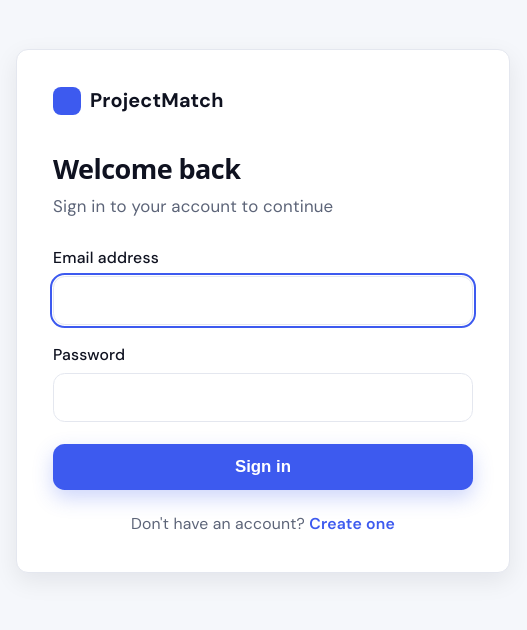
Test: LoginPage — user interactions › displays error message when login fails
Type "wrong@example.com" into the field labelled "Email address" at (263, 301), box [53,276,473,325]
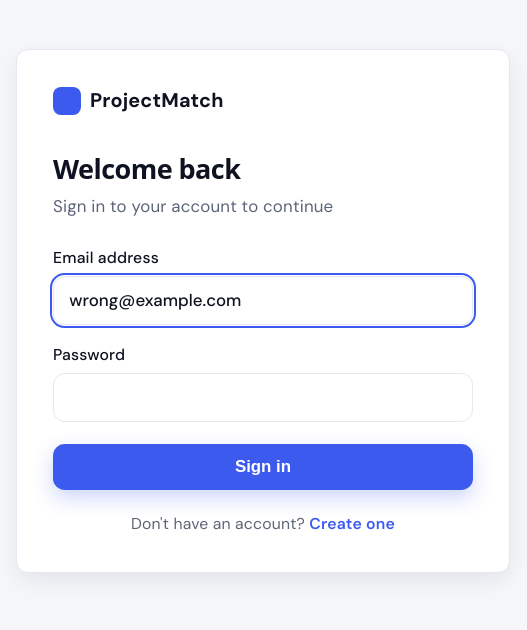
Type "wrongpass" into the password field labelled "Password" at (263, 397), box [53,373,473,422]
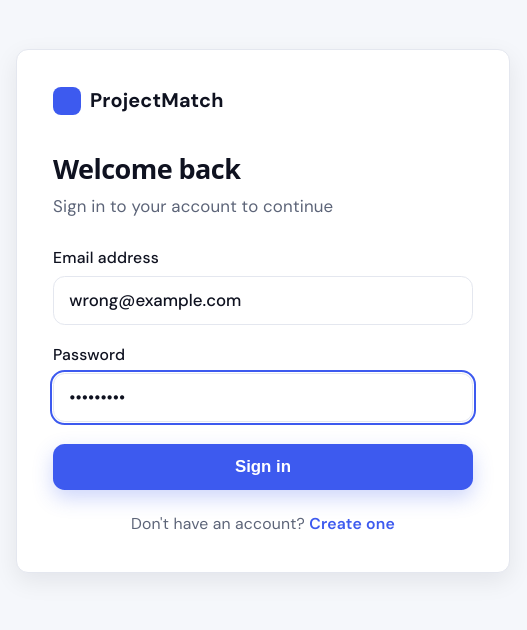
Click the button "Sign in" at (263, 467), box [53,444,473,490]
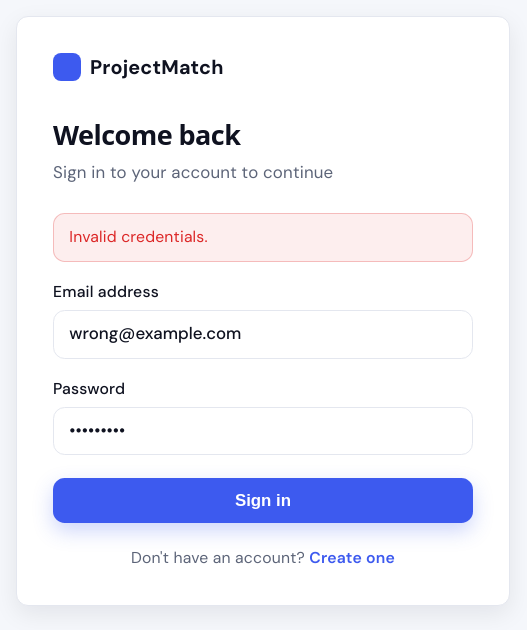
Now the message "Invalid credentials." is shown, box [53,213,473,262]
Now the message shows "Invalid credentials", box [69,226,208,247]
